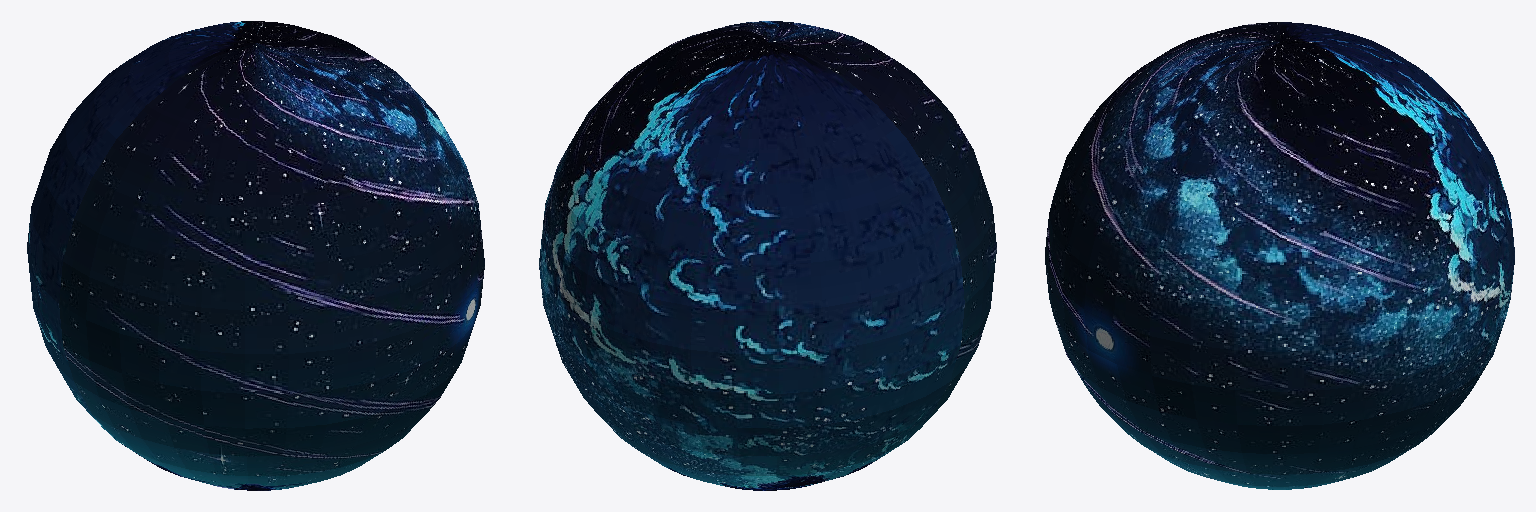
3 renders of one model, left to right at view 1: azimuth 30°, elevation 25°; view 2: azimuth 150°, elevation 25°; view 3: azimuth 270°, elevation 25°, orthographic.
Parts seen in each view (by area): view 1: 球; view 2: 球; view 3: 球.
Boxes of the visible parts, <box> form: 球: <box>27,21,484,490</box>; 球: <box>539,21,996,490</box>; 球: <box>1045,22,1514,489</box>.
Size of the model in its own units: 578 by 598 by 598.
Materials: 1 (1 with a texture image).